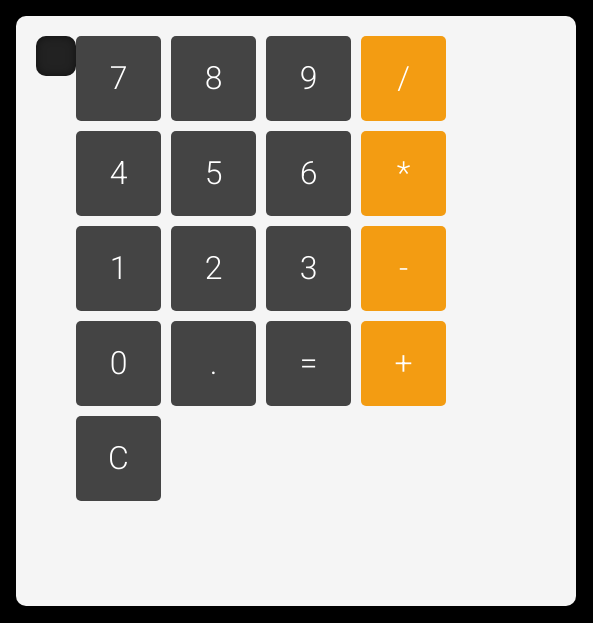
Test: handles decimal point
Click the button "1": point(118, 268) [76,226,161,311]
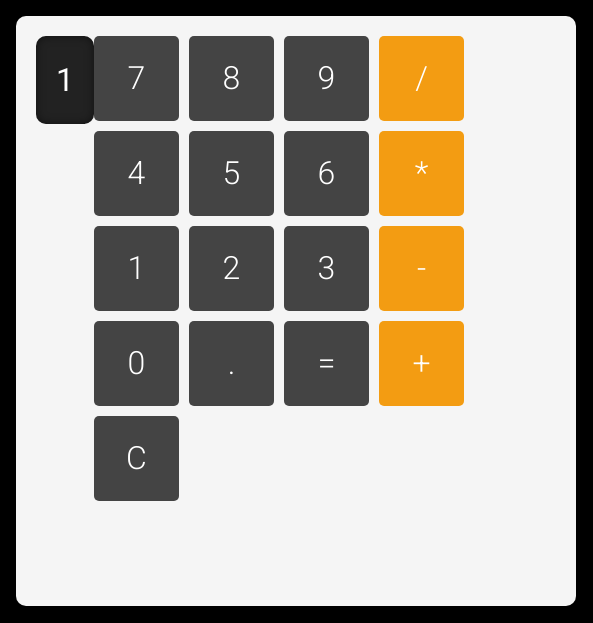
Click the button ".": point(232, 364) [189,321,274,406]
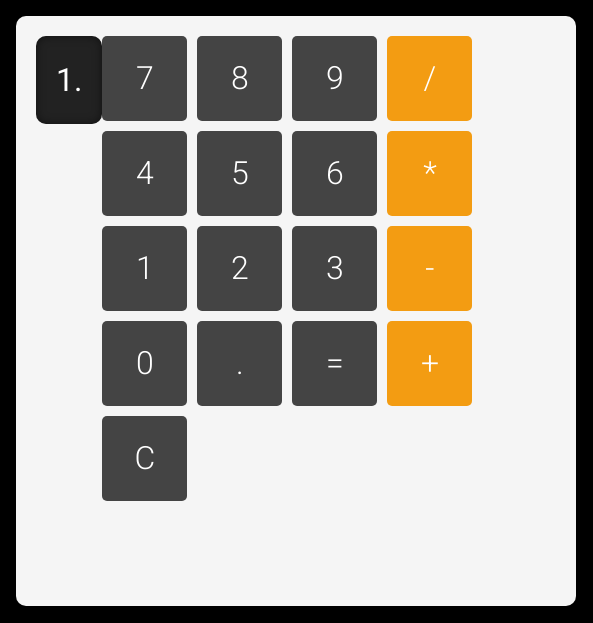
Click the button "1": point(145, 268) [102,226,187,311]
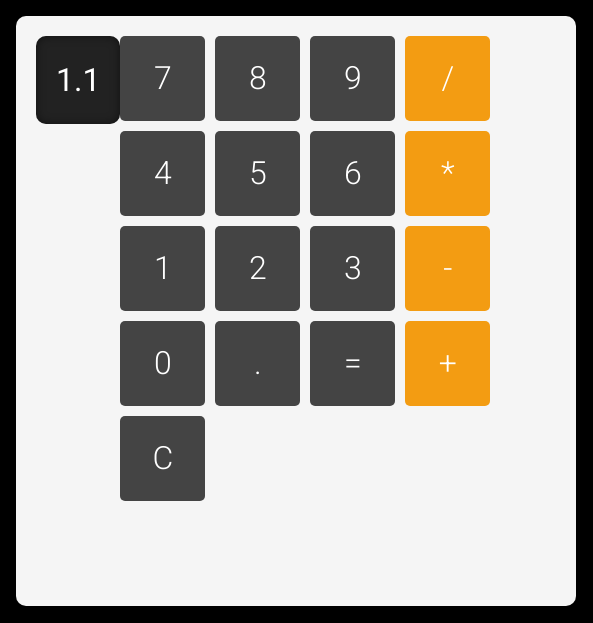
Click the button "=": point(353, 364) [310,321,395,406]
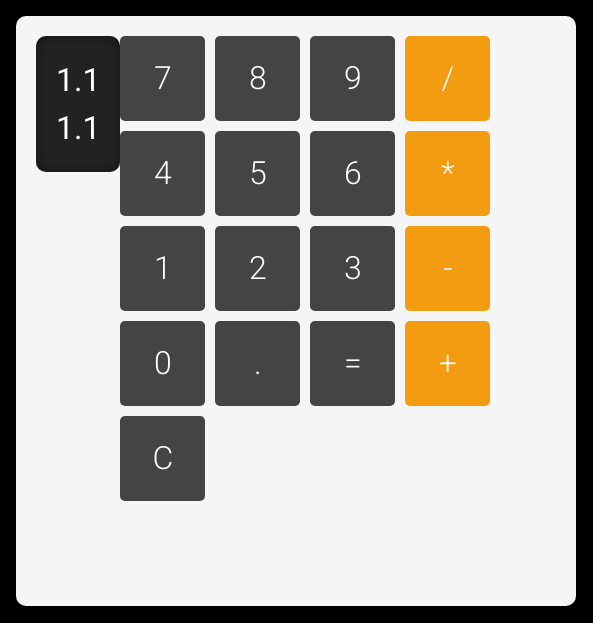
Now the 2nd text "1.1" is shown, box [56,104,100,152]
